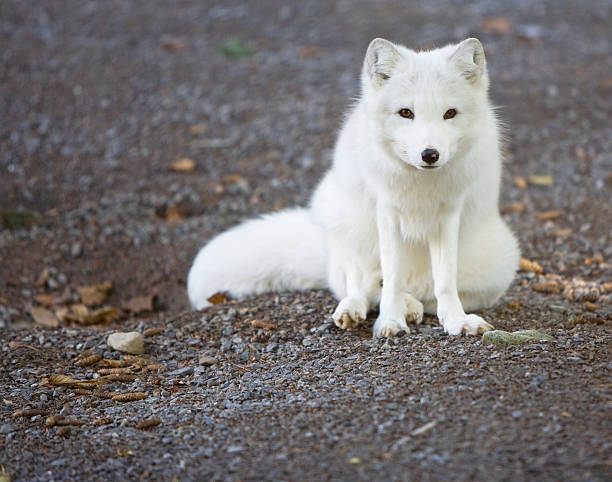arcticfox: (372, 55, 490, 205)
